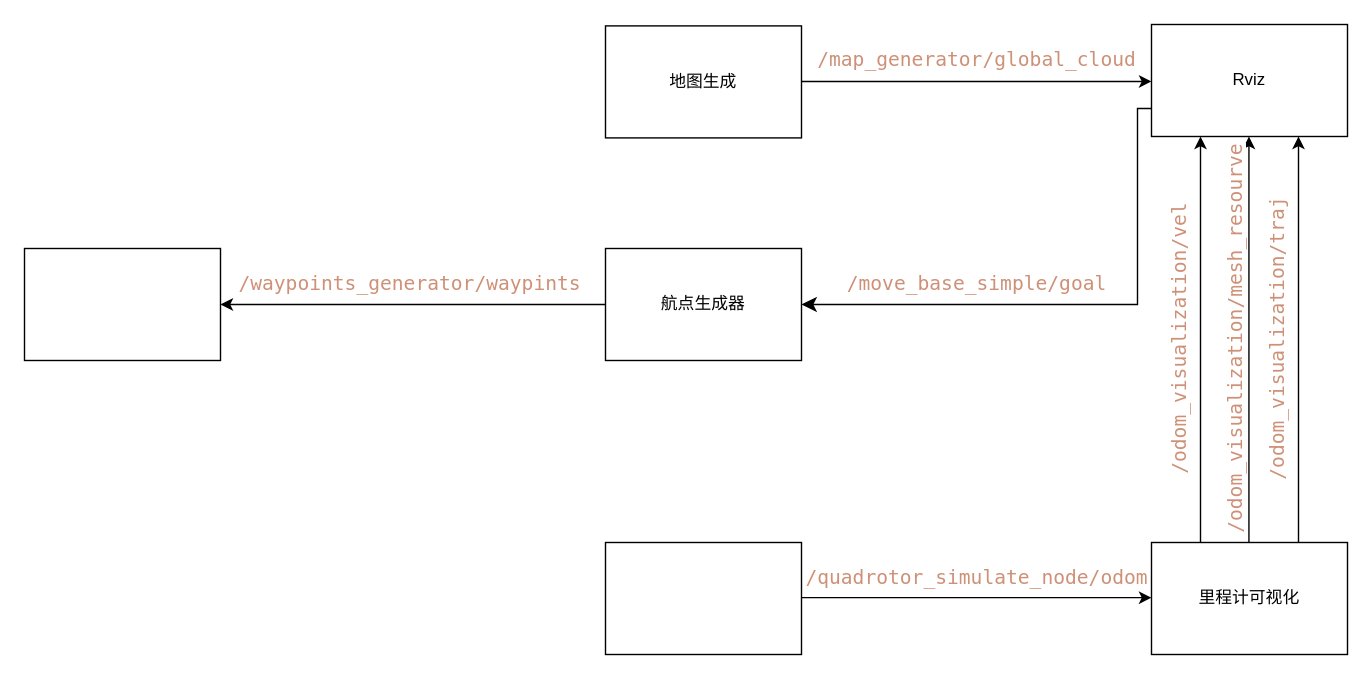
This 1372x679 diagram has some shape labels left out. Each missing label, with the centre of its shape:
无人机模拟: the point at 703,597
规划器状态机: the point at 121,303
